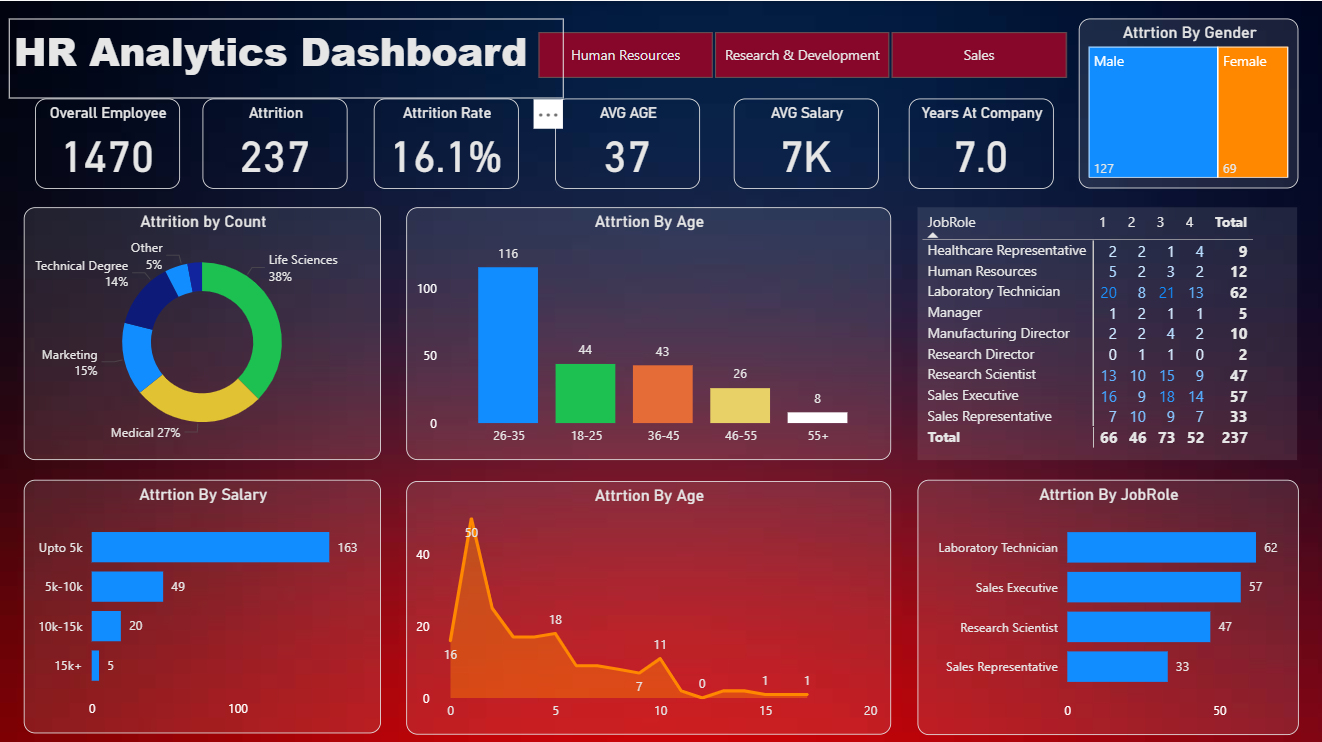

The page's visual inventory and layout, read from the dashboard file:
{"tool":"powerbi","page":{"name":"Page 1","canvas":[1280,720],"ordinal":0},"visuals":[{"type":"card","title":"Overall Employee","fields":{"Values":["Count(HR_Analytics.EmpID)"]},"box":[33.8,94.1,139.9,86.9],"z":0},{"type":"card","title":"Attrition","fields":{"Values":["Sum(HR_Analytics.AttritionCount)"]},"box":[195.4,94.1,139.9,86.9],"z":1000},{"type":"card","title":"Attrition Rate","fields":{"Values":["HR_Analytics.AttritionRate"]},"box":[360.7,94.1,139.9,86.9],"z":2000},{"type":"card","title":"AVG AGE","fields":{"Values":["Avg(HR_Analytics.Age)"]},"box":[535.7,94.1,139.9,86.9],"z":3000},{"type":"card","title":"Years At Company","fields":{"Values":["Avg(HR_Analytics.YearsAtCompany)"]},"box":[877.1,94.1,139.9,86.9],"z":4000},{"type":"card","title":"AVG Salary","fields":{"Values":["Avg(HR_Analytics.MonthlyIncome)"]},"box":[708.2,94.1,139.9,86.9],"z":5000},{"type":"donutChart","title":"Attrition by Count","fields":{"Y":["Sum(HR_Analytics.AttritionCount)"],"Category":["HR_Analytics.EducationField"]},"box":[22.9,199.1,345,243.7],"z":6000},{"type":"columnChart","title":"Attrtion By Age","fields":{"Y":["Sum(HR_Analytics.AttritionCount)"],"Category":["HR_Analytics.AgeGroup"]},"box":[392.1,199.1,468.1,243.7],"z":7000},{"type":"pivotTable","fields":{"Rows":["HR_Analytics.JobRole"],"Columns":["HR_Analytics.JobSatisfaction"],"Values":["Sum(HR_Analytics.AttritionCount)"]},"box":[885.5,199.1,366.8,243.7],"z":8000},{"type":"barChart","title":"Attrtion By Salary","fields":{"Category":["HR_Analytics.SalarySlab"],"Y":["Sum(HR_Analytics.AttritionCount)"]},"box":[22.9,462.1,345,244.9],"z":9000},{"type":"barChart","title":"Attrtion By JobRole","fields":{"Category":["HR_Analytics.JobRole"],"Y":["Sum(HR_Analytics.AttritionCount)"]},"box":[885.5,462.1,368,246.1],"z":10000},{"type":"areaChart","title":"Attrtion By Age","fields":{"Category":["HR_Analytics.YearsAtCompany"],"Y":["Sum(HR_Analytics.AttritionCount)"]},"box":[392.1,463.3,468.1,244.9],"z":11000},{"type":"treemap","title":"Attrtion By Gender","fields":{"Group":["HR_Analytics.Gender"],"Values":["Sum(HR_Analytics.AttritionCount)"]},"box":[1041.2,16.9,212.3,164.1],"z":12000},{"type":"slicer","fields":{"Values":["HR_Analytics.Department"]},"box":[493.4,22.9,559.8,57.9],"z":13000},{"type":"textbox","box":[8.4,16.9,535.7,77.2],"z":14000}]}

Visuals, with their boxes in screenshot pixels (x1, y1, x2, y2), scaled from the page's 1280x720 canvas onto the 1322x742 screenshot:
"Overall Employee" card: select_region(35, 97, 179, 187)
"Attrition" card: select_region(202, 97, 346, 187)
"Attrition Rate" card: select_region(373, 97, 517, 187)
"AVG AGE" card: select_region(553, 97, 698, 187)
"Years At Company" card: select_region(906, 97, 1050, 187)
"AVG Salary" card: select_region(731, 97, 876, 187)
"Attrition by Count" donutChart: select_region(24, 205, 380, 456)
"Attrtion By Age" columnChart: select_region(405, 205, 888, 456)
pivotTable - HR_Analytics.JobRole x HR_Analytics.JobSatisfaction: select_region(915, 205, 1293, 456)
"Attrtion By Salary" barChart: select_region(24, 476, 380, 729)
"Attrtion By JobRole" barChart: select_region(915, 476, 1295, 730)
"Attrtion By Age" areaChart: select_region(405, 477, 888, 730)
"Attrtion By Gender" treemap: select_region(1075, 17, 1295, 187)
slicer - HR_Analytics.Department: select_region(510, 24, 1088, 83)
textbox: select_region(9, 17, 562, 97)
